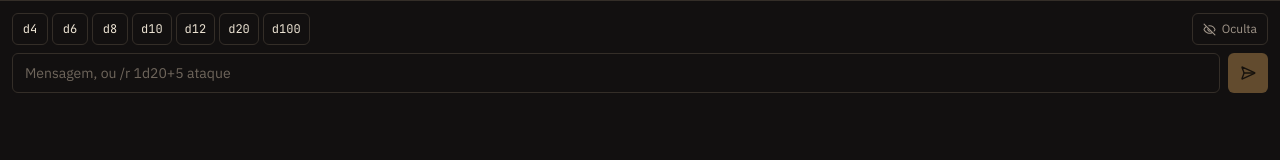
Test: Composer › mostra erro do servidor e mantém o texto
This screenshot has width=1280, height=160.
In the field named "Mensagem ou rolagem": {"x": 616, "y": 73} [12, 53, 1220, 93], type "/r 1d1"
Then press Enter
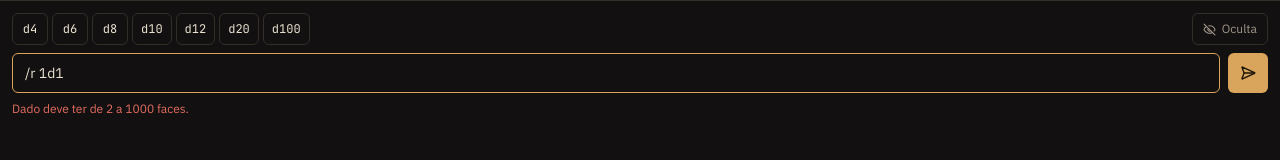
expect the message shows "faces": met, box [12, 101, 189, 116]
